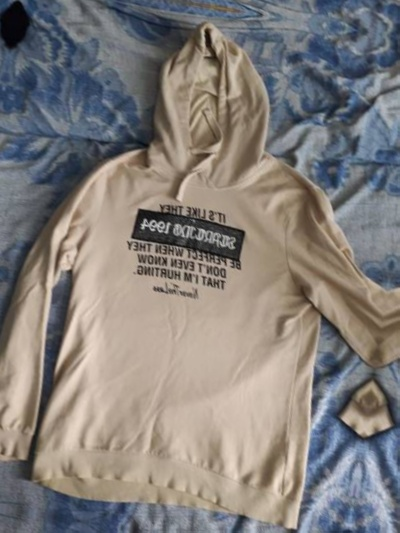Hoodie: (0, 5, 400, 533), (348, 69, 400, 533), (0, 509, 340, 533), (43, 0, 400, 16), (0, 0, 1, 489)
